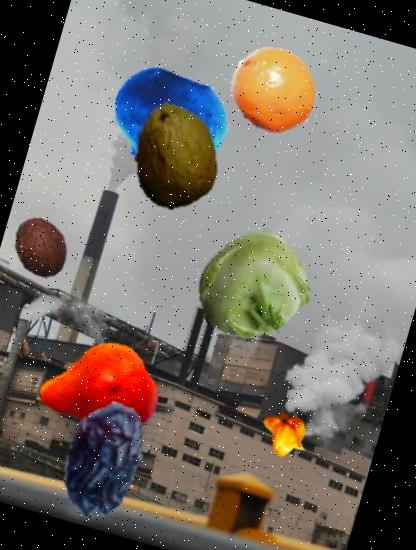Carambula: (254, 402, 318, 464)
Cocos: (2, 208, 80, 288)
Dates: (30, 386, 177, 534)
Huckleberry: (98, 49, 240, 192)
Kohlrabi: (182, 218, 324, 359)
Lemon: (218, 34, 329, 146)
Papaya: (108, 88, 242, 222)
Pear: (25, 320, 171, 466)
